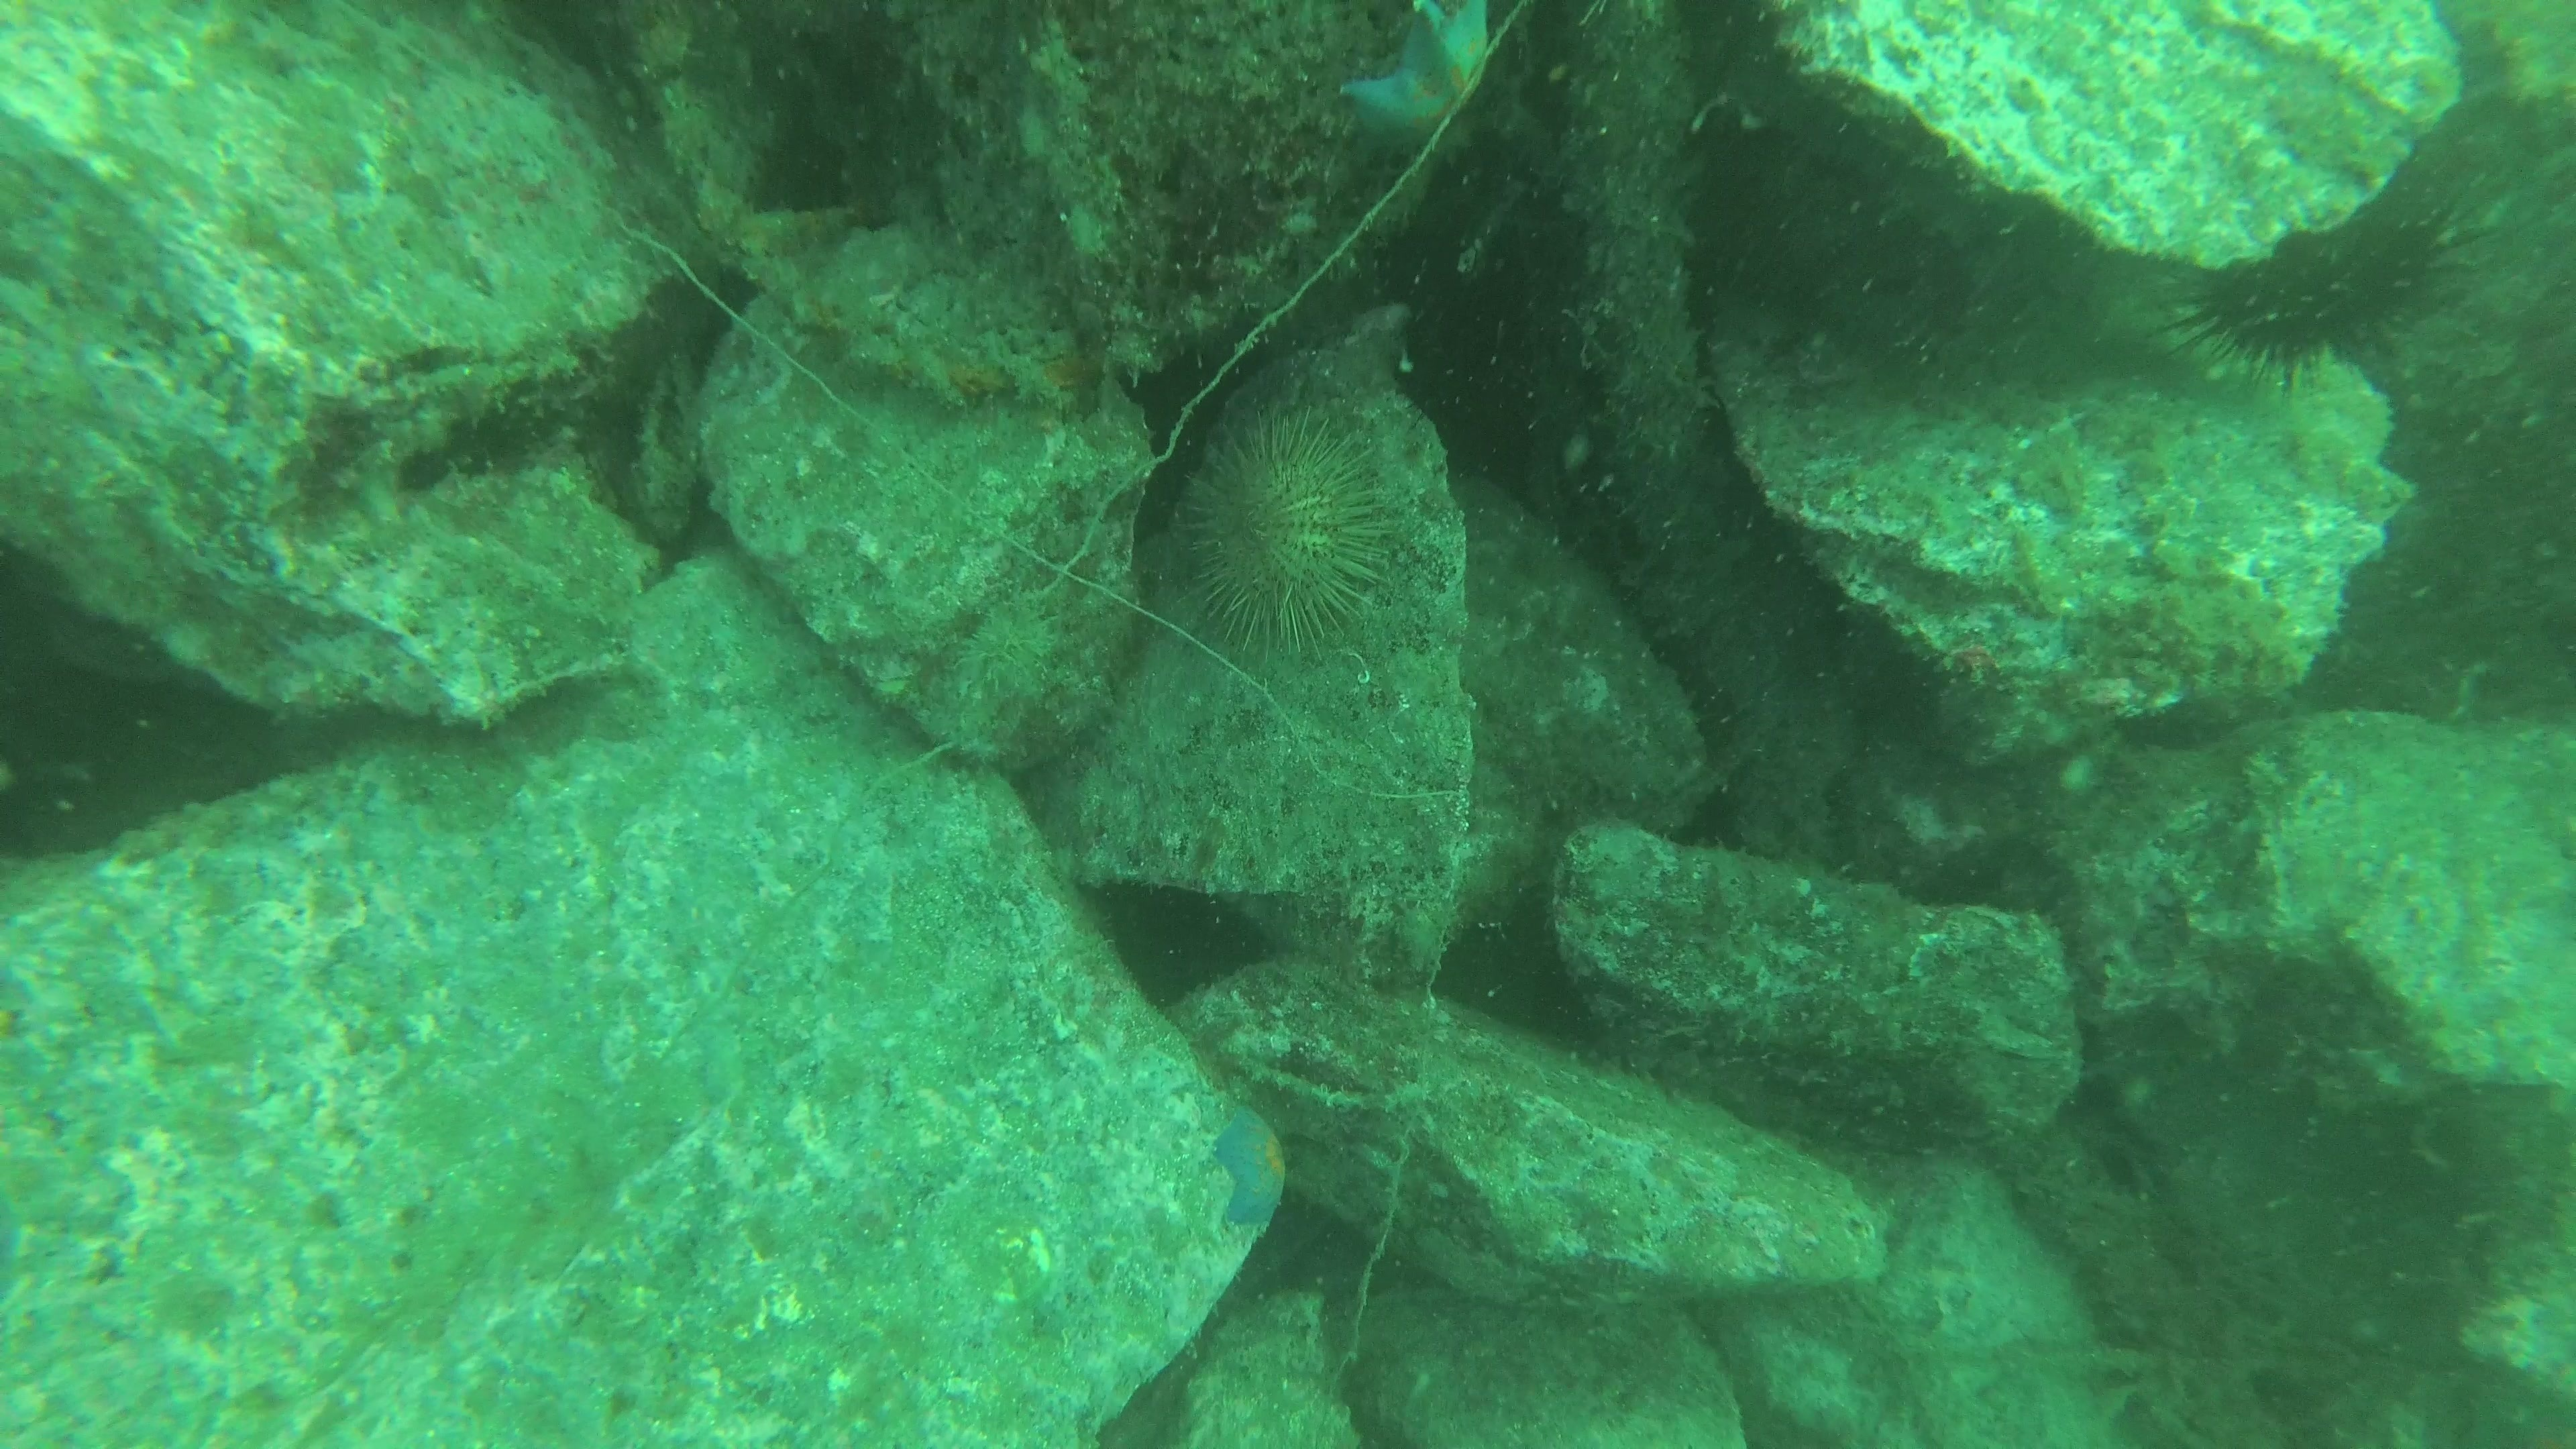echinus: (1168, 409, 1403, 662), (2180, 200, 2445, 380)
starfish: (1332, 2, 1504, 170), (1201, 1093, 1295, 1247)
